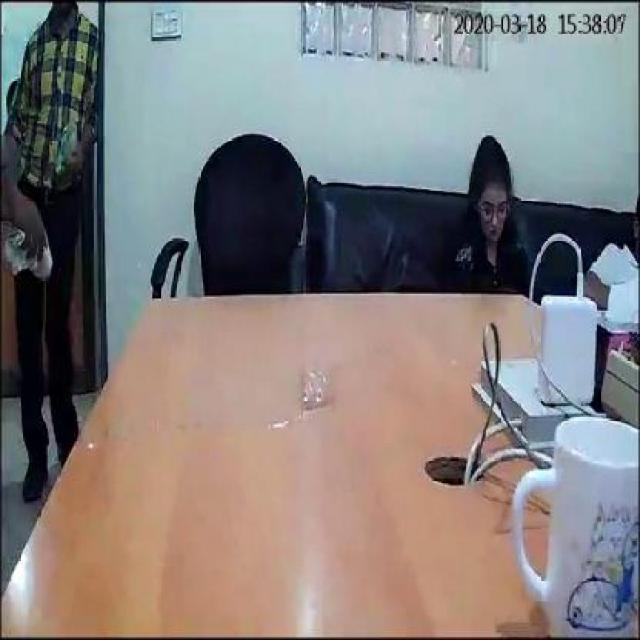spill: (242, 381, 322, 441)
